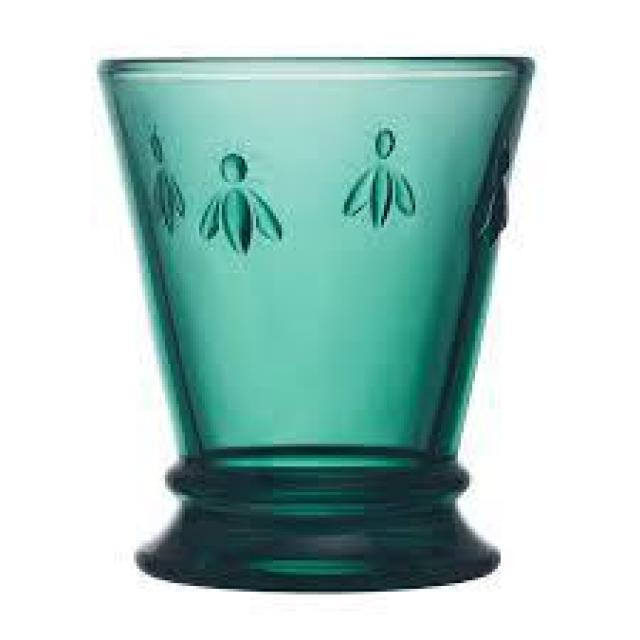non-organic waste: (96, 54, 538, 595)
